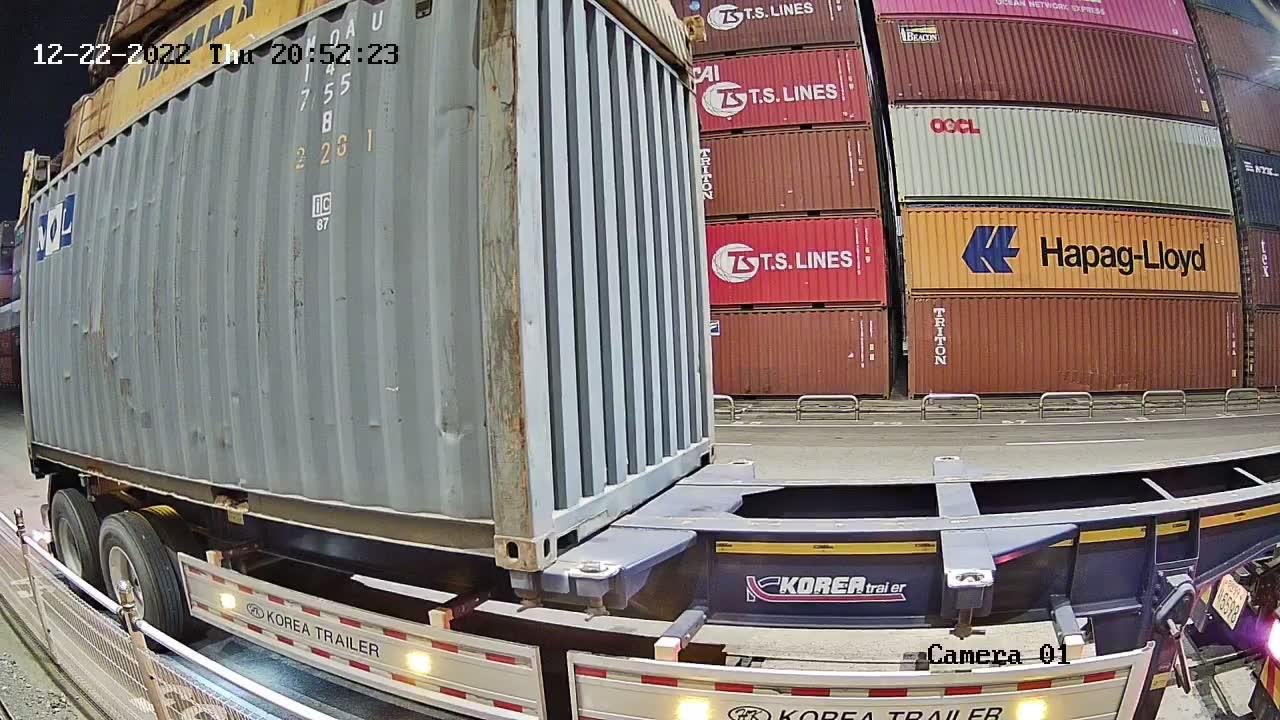Chassis: (574, 461, 753, 571)
Cone: (574, 562, 616, 620), (505, 570, 538, 615)
Hole_L: (531, 487, 579, 570)
Hole_R: (463, 495, 534, 570), (693, 422, 719, 469)
Tire: (99, 518, 157, 648), (49, 492, 92, 595)
